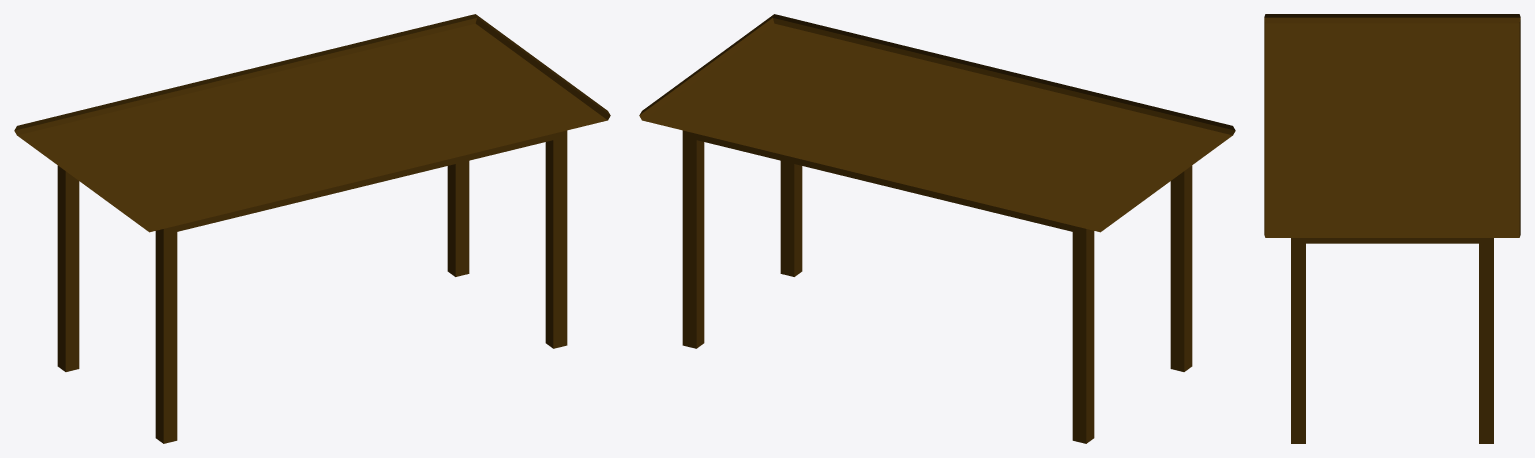
File: table.glb
The picture shows the model from 3 angles, left to right: view 1: azimuth 30°, elevation 25°; view 2: azimuth 150°, elevation 25°; view 3: azimuth 270°, elevation 25°; orthographic projection. The views are drawn at different scales.
Parts seen in each view (by area): view 1: Plane; view 2: Plane; view 3: Plane.
Boxes of the visible parts, x1,y1,x2,y2 form: Plane: (14,14,610,443); Plane: (639,14,1235,443); Plane: (1264,14,1520,443).
Bounding box in the file's own units: 2.02 × 0.9902 × 1.01.
